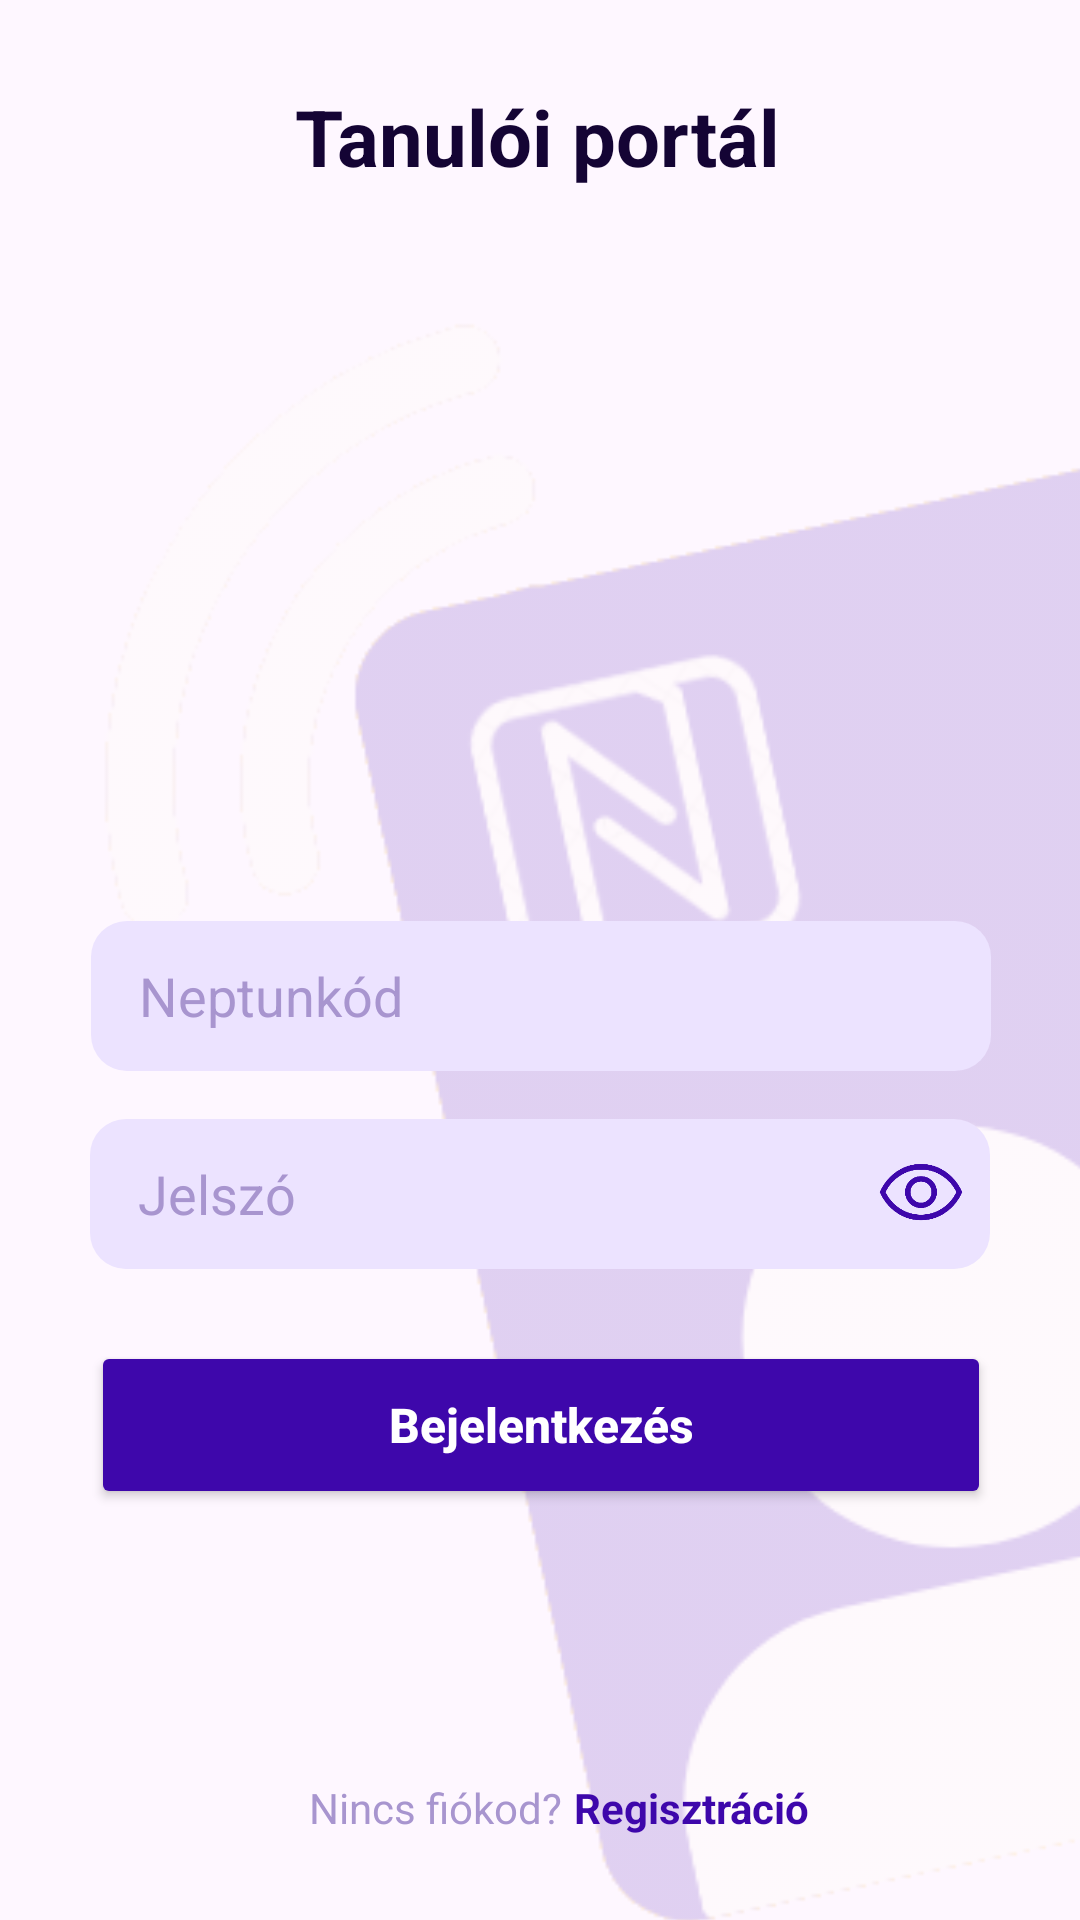

Where to tap for icons on this 1080 x 1920 app screen, as [x,y]:
Toggle Password Visibility: [921,1192]
